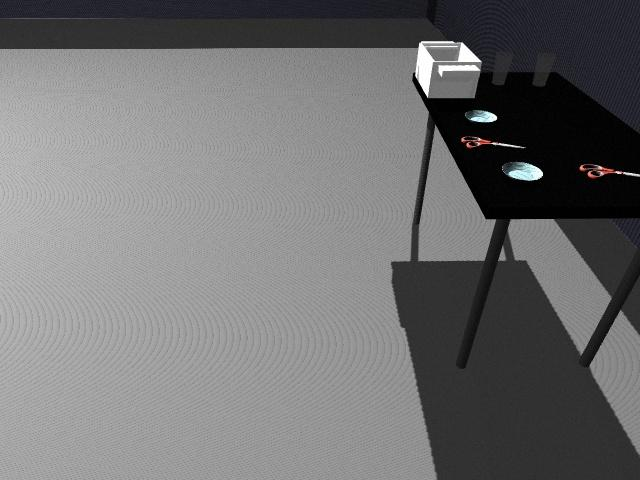cup: (532, 52, 556, 88), (492, 50, 514, 87)
plate: (502, 161, 545, 181), (464, 109, 499, 123)
scissors: (577, 163, 638, 181), (460, 136, 526, 151)
